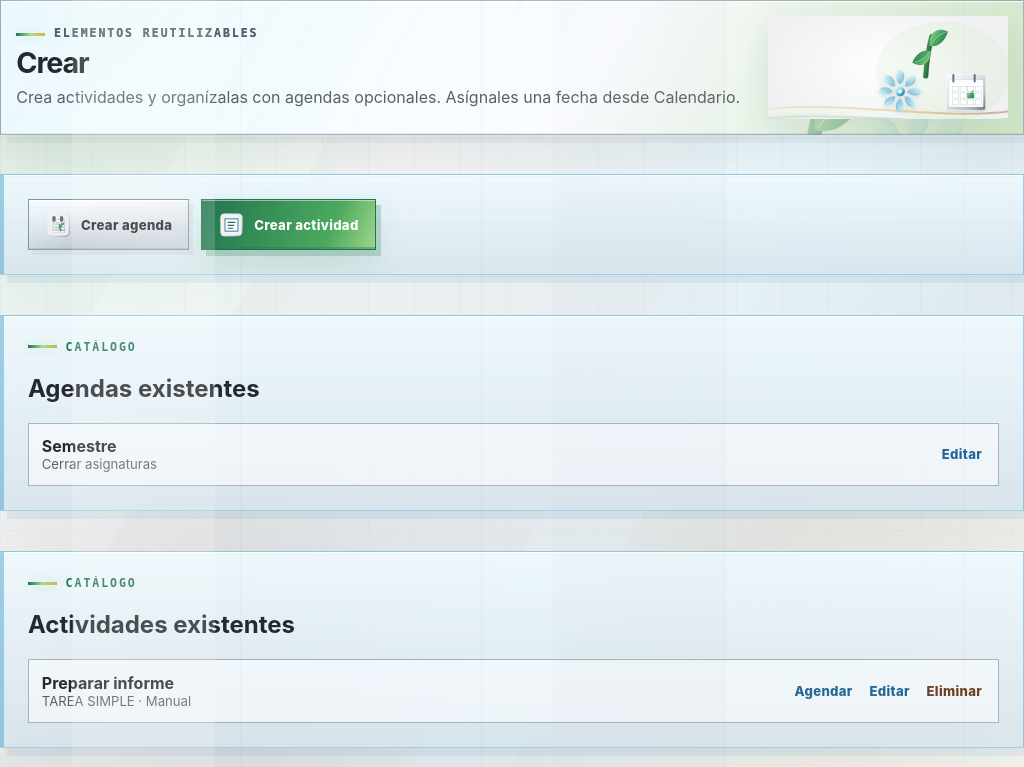
Scenario: página Crear › devuelve el foco a Crear agenda al cancelar su formulario
Step 1. Click the button "Crear agenda" → {"x": 109, "y": 225}, box [28, 200, 189, 250]
(page scrolled)
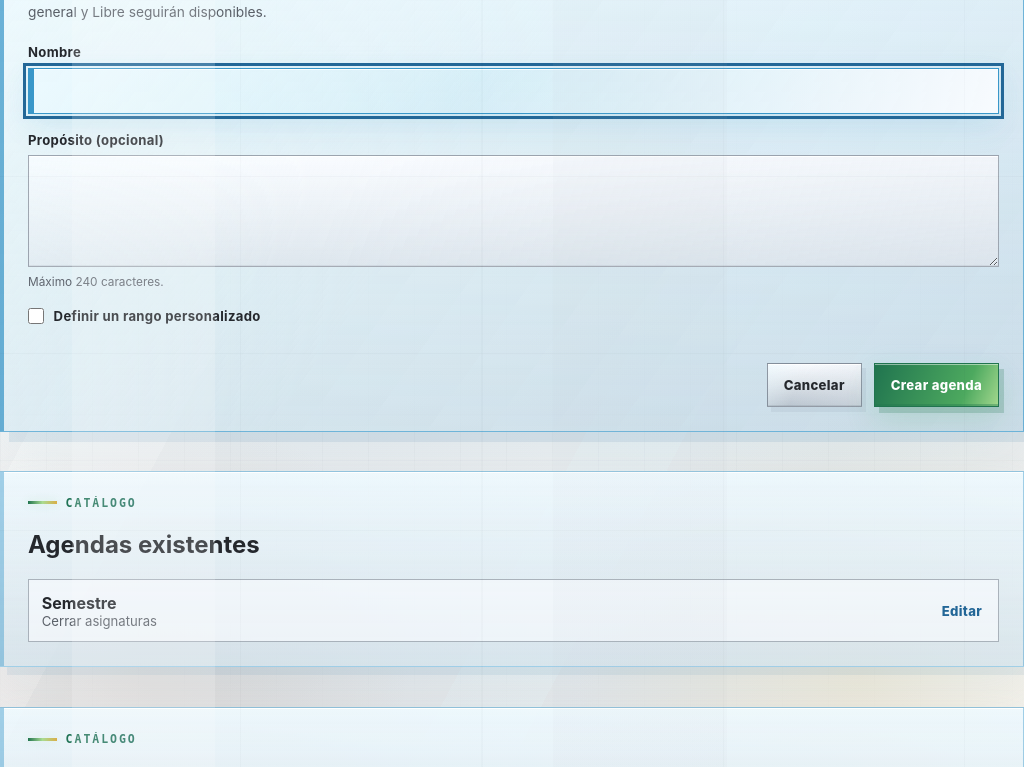
Step 2. Click the button "Cancelar" → {"x": 814, "y": 384}, box [767, 362, 862, 406]
(page scrolled)
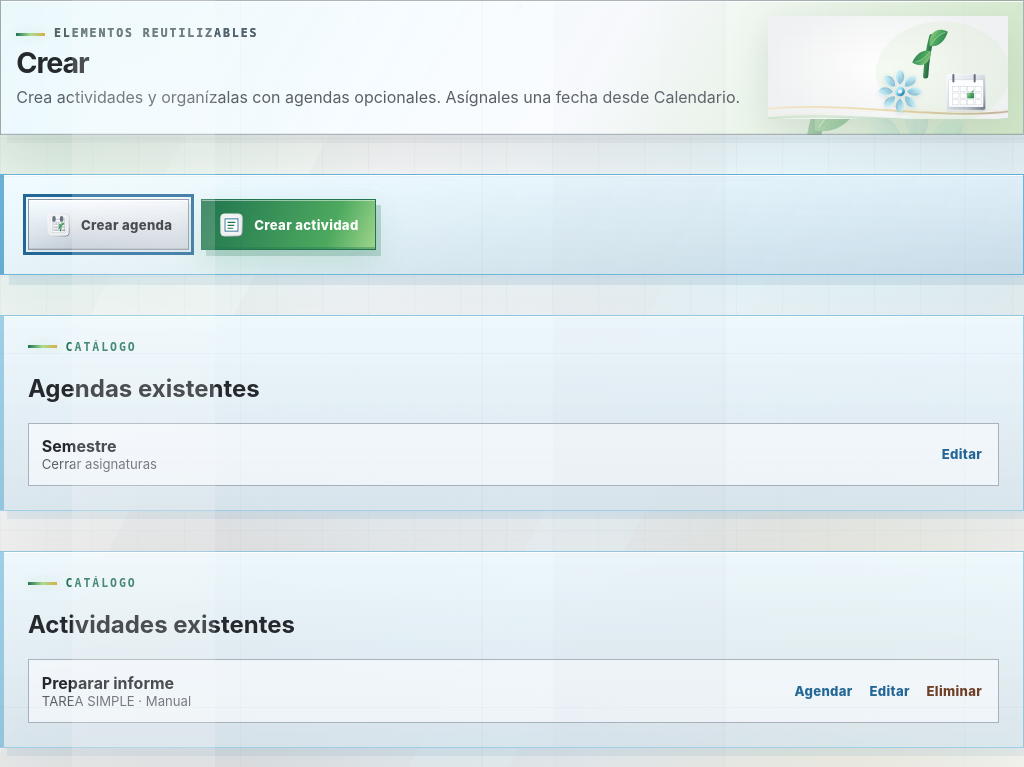
expect the button "Crear agenda" is collapsed: met, box [28, 200, 189, 250]
